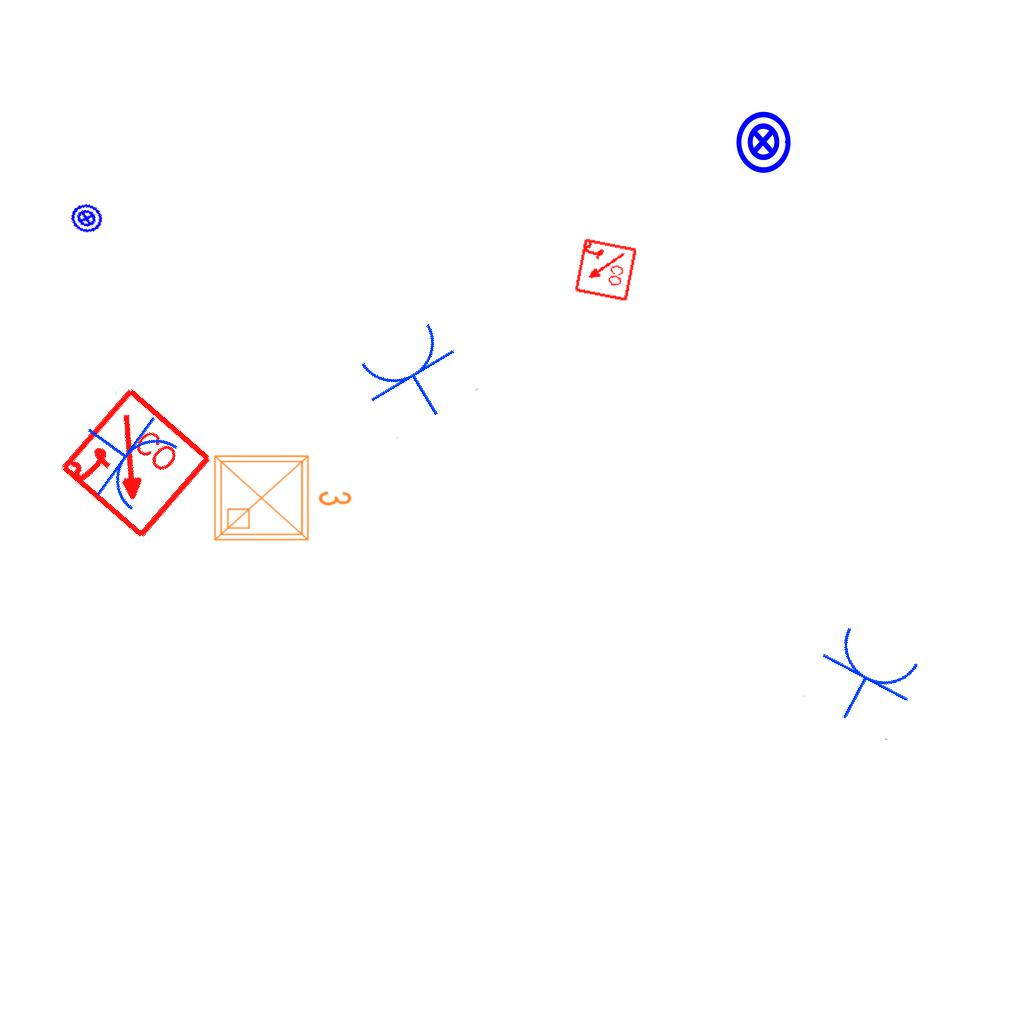Einbaudownlights_LED_Konferenzraeume: (207, 444, 357, 548)
ROA_Rauchmelder_optisch_mit_Signalgeber_(Sockelsirene): (55, 384, 216, 545), (572, 237, 638, 303)
Schukosteckdose_einfach: (58, 389, 188, 522), (349, 314, 481, 441), (800, 618, 930, 743)
Taster_beleuchtet: (730, 109, 796, 175), (65, 197, 108, 240)
